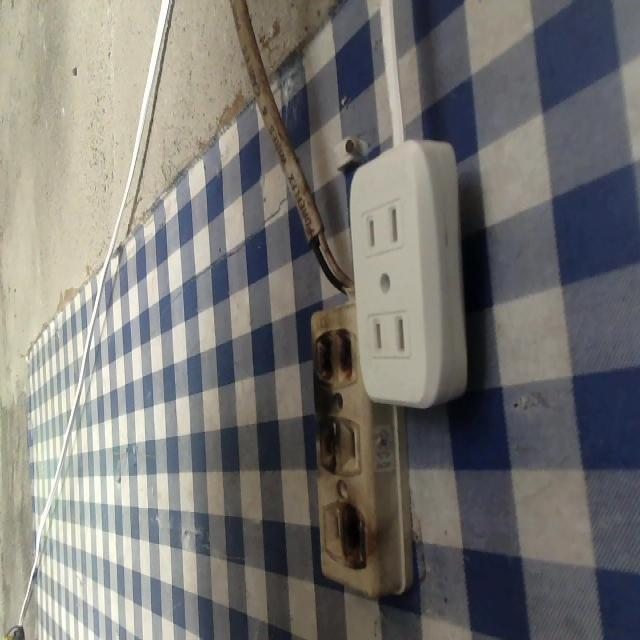-: (337, 500, 378, 580), (310, 324, 359, 389), (309, 413, 343, 478)
